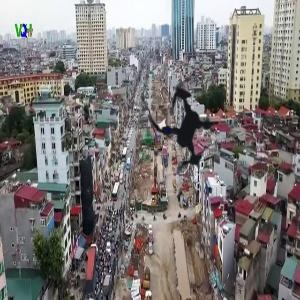drone: (108, 50, 267, 209)
